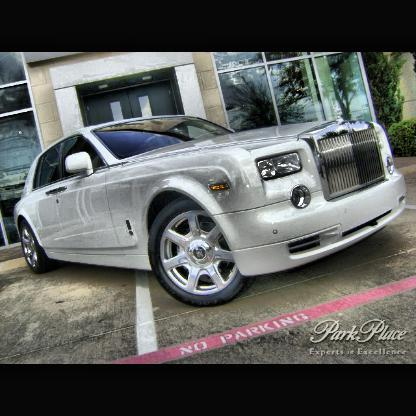Rolls-Royce Phantom Sedan 2012: (12, 109, 410, 313)
